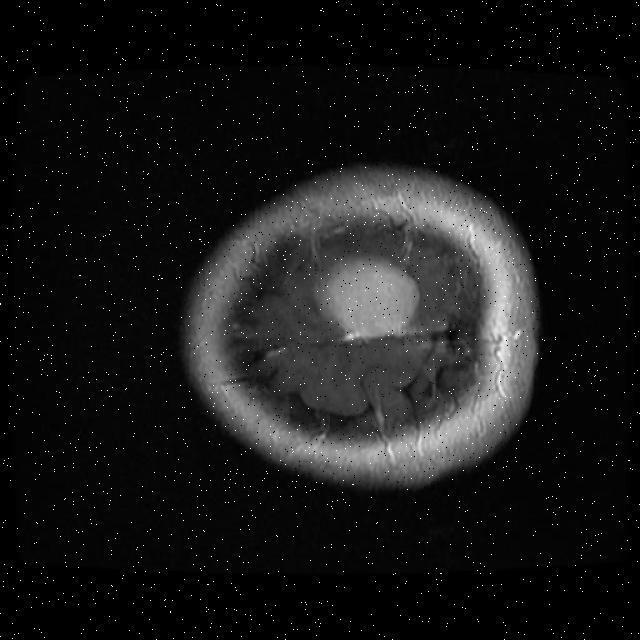Meningioma: (323, 257, 419, 339)
